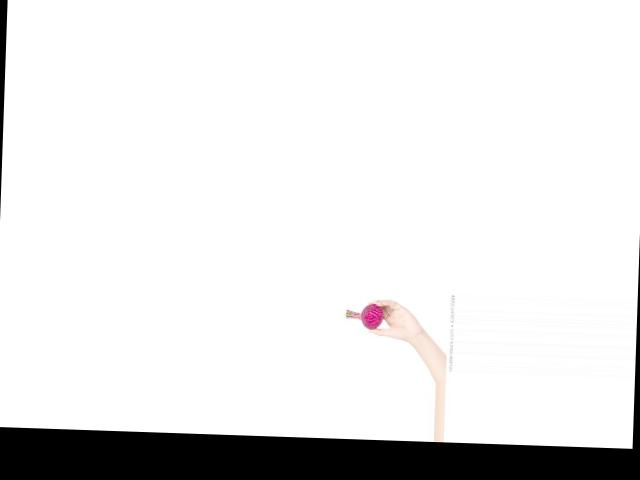beet: (344, 302, 384, 329)
